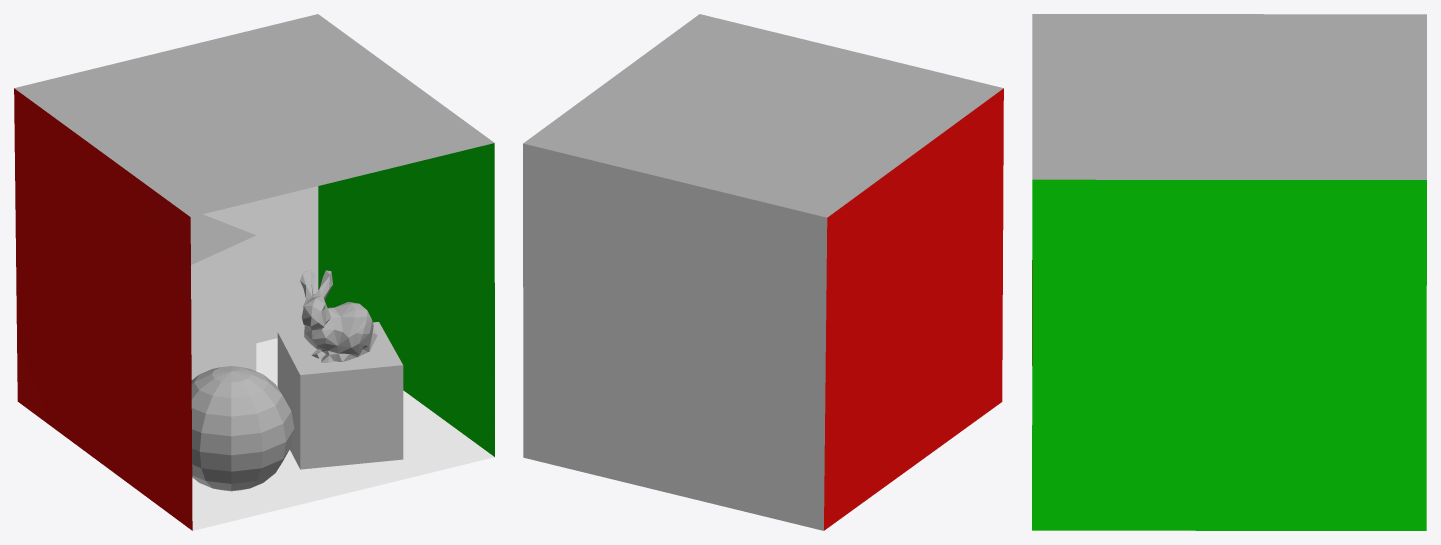
Rendered from cornell-shapes.obj.
3 renders of one model, left to right at view 1: azimuth 30°, elevation 25°; view 2: azimuth 150°, elevation 25°; view 3: azimuth 270°, elevation 25°, orthographic. The views are drawn at different scales.
Visible parts, largest first — view 1: left_wall, ceiling, right_wall, short_box, floor, sphere, back_wall, tall_box_front, bunny, tall_box; view 2: back_wall, left_wall, ceiling; view 3: right_wall, ceiling.
Boxes of the visible parts, <box> form: left_wall: <box>14,88,192,530</box>; ceiling: <box>14,14,494,216</box>; right_wall: <box>318,143,494,456</box>; short_box: <box>277,322,403,469</box>; floor: <box>192,338,494,530</box>; sphere: <box>191,366,294,491</box>; back_wall: <box>203,186,318,343</box>; tall_box_front: <box>191,235,256,379</box>; bunny: <box>300,269,377,362</box>; tall_box: <box>190,214,255,264</box>; back_wall: <box>523,143,827,530</box>; left_wall: <box>824,88,1003,530</box>; ceiling: <box>523,14,1003,217</box>; right_wall: <box>1032,179,1426,530</box>; ceiling: <box>1032,14,1426,179</box>.
Size of the model in its own units: 5.56 by 5.49 by 5.6.
